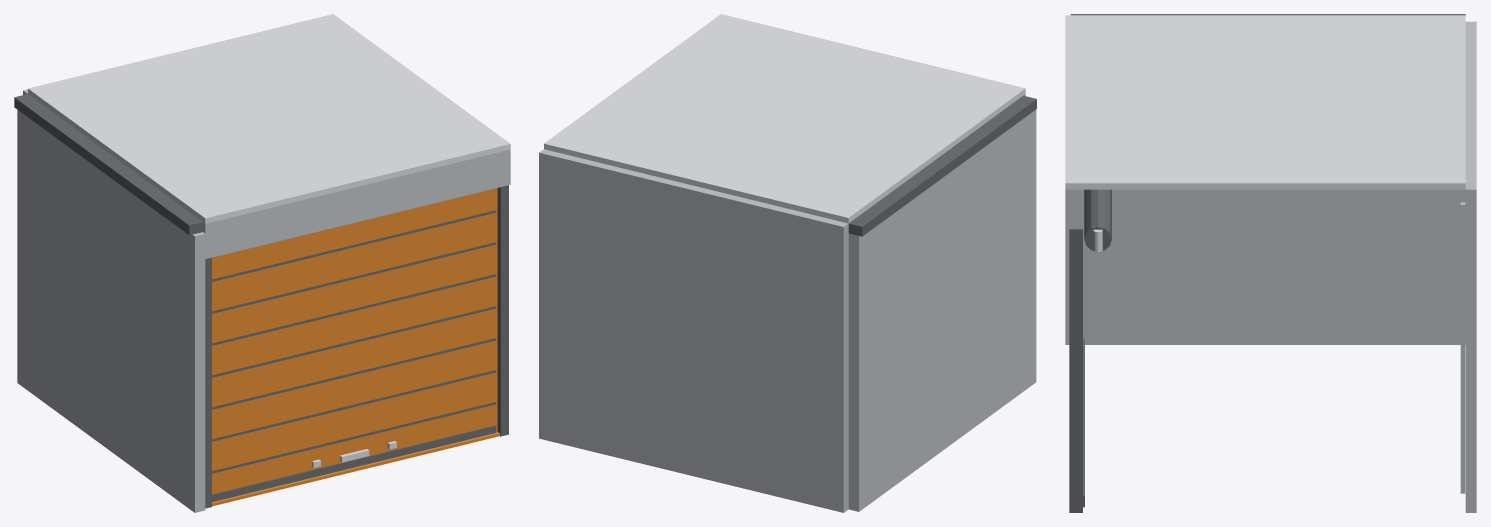
The model's file is self-storage-facility-and-loading-bay-self-storage-fac-d47de276__34694.glb.
3 views of the same model, side by side, from view 1: azimuth 30°, elevation 25°; view 2: azimuth 150°, elevation 25°; view 3: azimuth 270°, elevation 25° (orthographic). The views are drawn at different scales.
Parts seen in each view (by area): view 1: self-storage-facility-and-loading-bay-storage-unit-module, shutter/orange, shutter/charcoal; view 2: self-storage-facility-and-loading-bay-storage-unit-module; view 3: self-storage-facility-and-loading-bay-storage-unit-module.
Boxes of the visible parts, x1,y1,x2,y2 form: self-storage-facility-and-loading-bay-storage-unit-module: [14, 14, 510, 512]; shutter/orange: [212, 188, 497, 494]; shutter/charcoal: [212, 210, 496, 501]; self-storage-facility-and-loading-bay-storage-unit-module: [539, 14, 1036, 512]; self-storage-facility-and-loading-bay-storage-unit-module: [1065, 14, 1476, 512].
Bounding box in the file's own units: 3.04 × 2.65 × 3.
